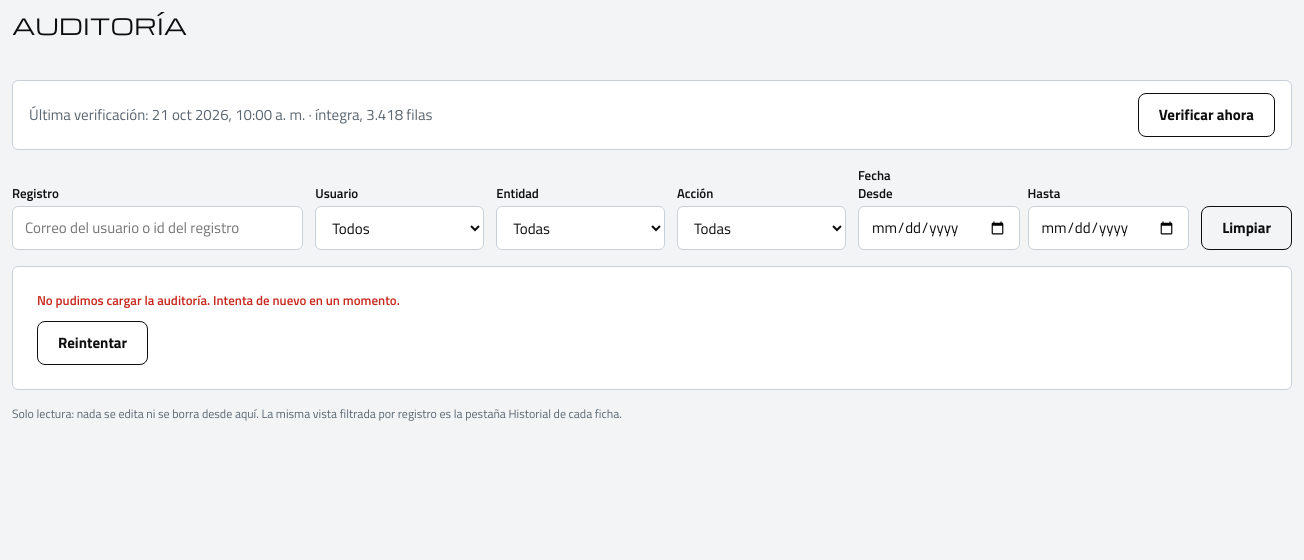
Test: AuditPage · lista (US-102) › un error del api se explica y Reintentar vuelve a pedir
Expected: the text "No pudimos cargar la auditoría. Intenta de nuevo en un momento." is shown, [37, 291, 400, 309]
Step 1. Click the button "Reintentar" → (93, 343), box [37, 321, 148, 365]
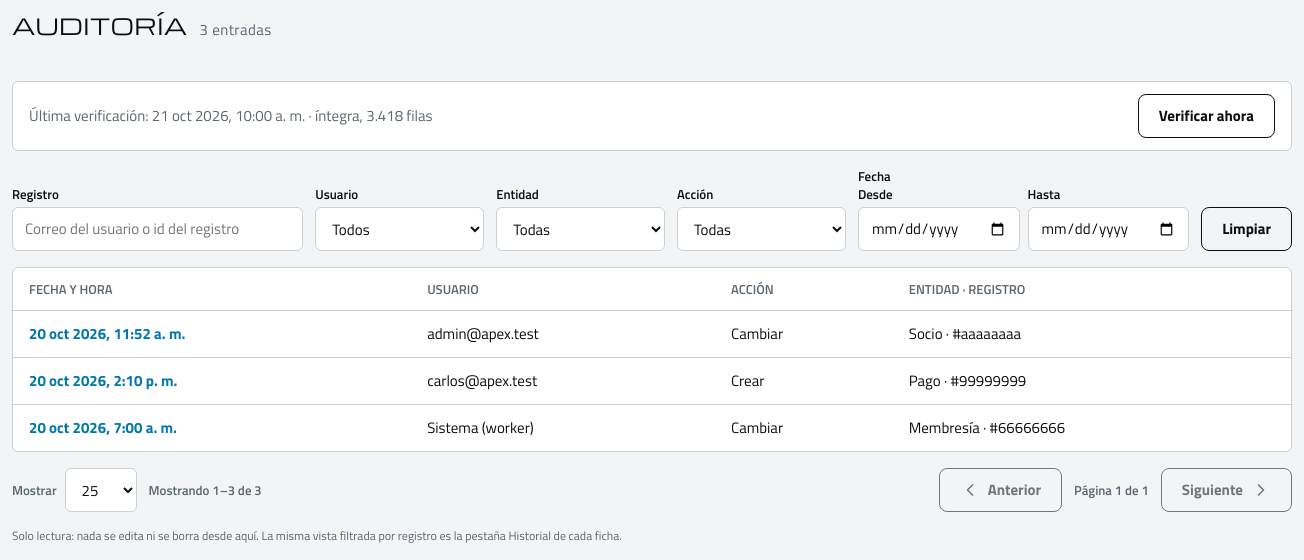
Result: the table named "Auditoría" is shown at [13, 268, 1291, 451]
